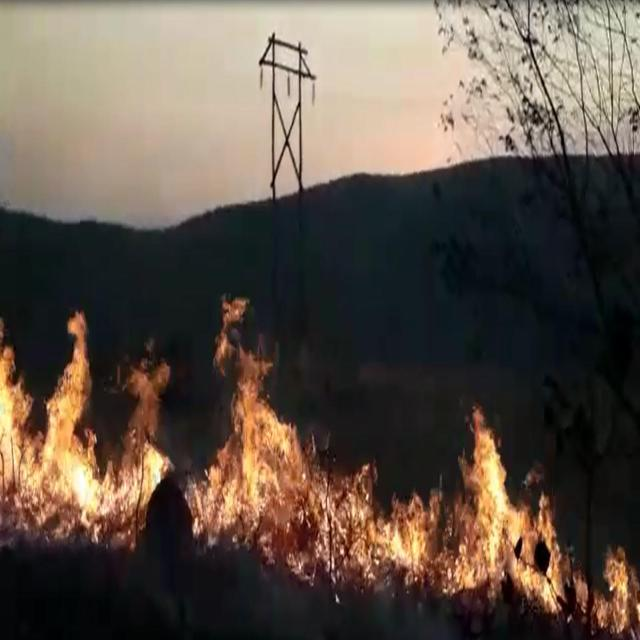Fire: (188, 301, 638, 631), (1, 306, 170, 559)
